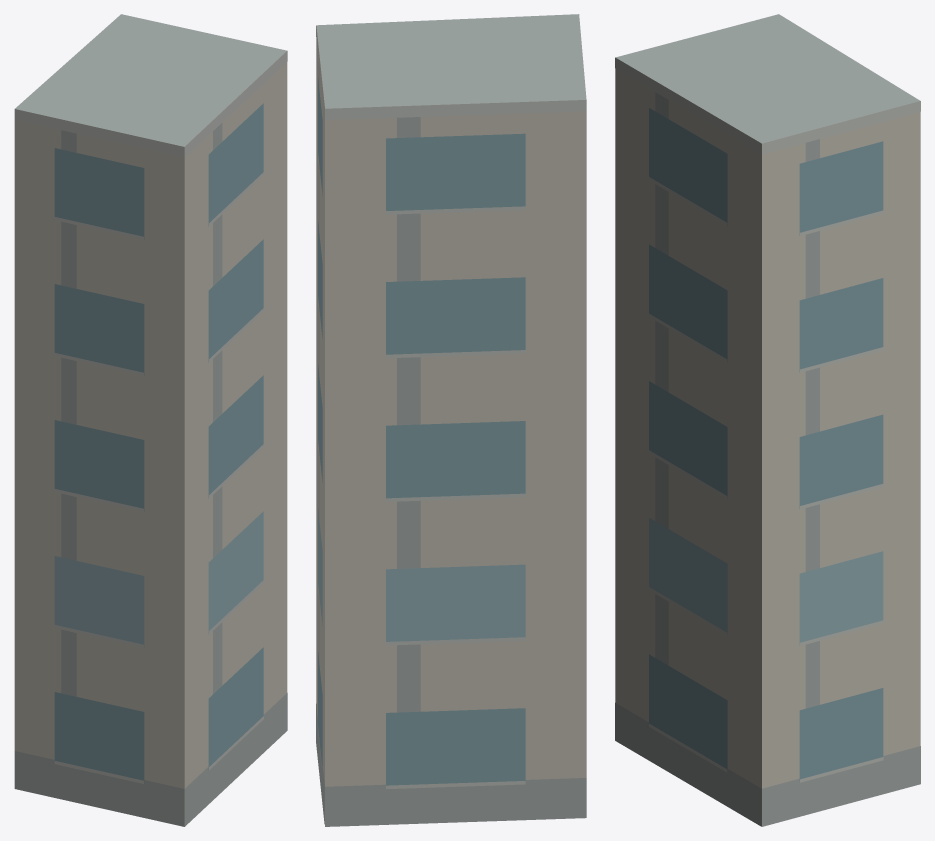
Rendered from survey-upis-32618415.glb.
The picture shows the model from 3 angles, left to right: view 1: azimuth 30°, elevation 25°; view 2: azimuth 150°, elevation 25°; view 3: azimuth 270°, elevation 25°; orthographic projection. The views are drawn at different scales.
Parts seen in each view (by area): view 1: survey-upis-32618415.tmp; view 2: survey-upis-32618415.tmp; view 3: survey-upis-32618415.tmp.
Part boxes in pixels (left/top/right/bottom): survey-upis-32618415.tmp: left=14, top=14, right=287, bottom=826; survey-upis-32618415.tmp: left=316, top=14, right=586, bottom=826; survey-upis-32618415.tmp: left=615, top=14, right=920, bottom=826.
Size of the model in its own units: 6.21 by 15.25 by 6.19.
